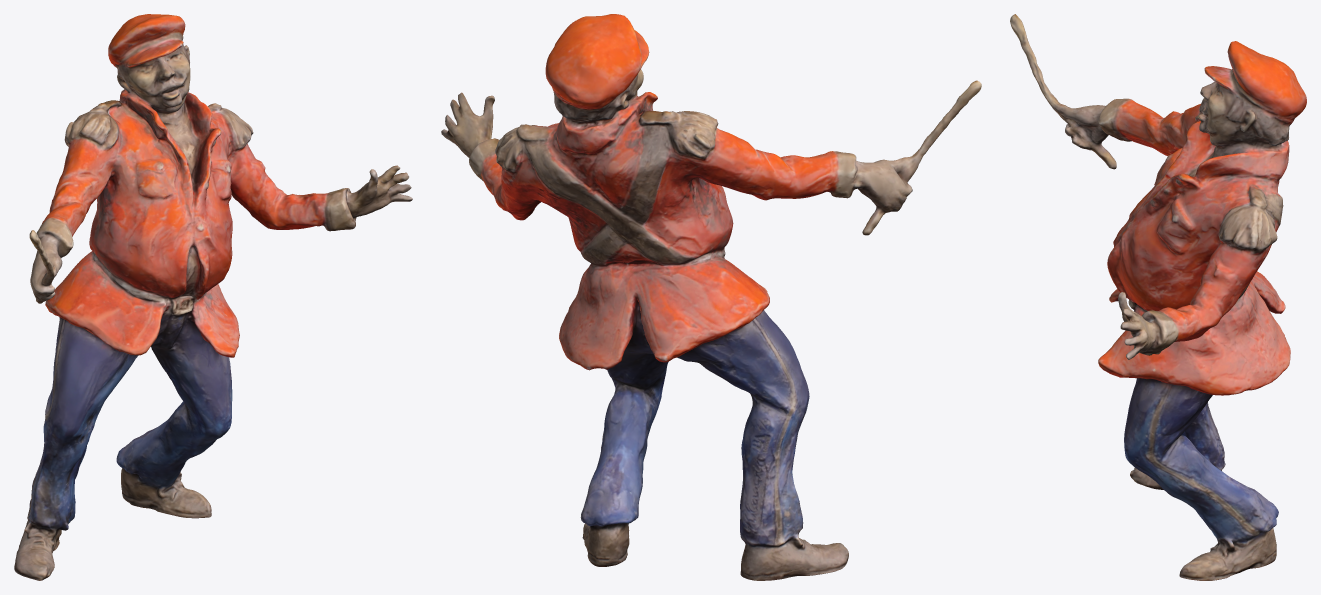
File: khanna-kc-the-bandmaster.glb
3 views of the same model, side by side, from view 1: azimuth 30°, elevation 25°; view 2: azimuth 150°, elevation 25°; view 3: azimuth 270°, elevation 25° (orthographic). The views are drawn at different scales.
Parts seen in each view (by area): view 1: Mesh_001; view 2: Mesh_001; view 3: Mesh_001.
Part boxes in pixels (x1,y1,x2,y2): Mesh_001: [14, 14, 412, 580]; Mesh_001: [441, 14, 981, 580]; Mesh_001: [1010, 14, 1306, 580].
Size of the model in its own units: 0.3097 by 0.33 by 0.1722.
Materials: 1 (1 with a texture image).
